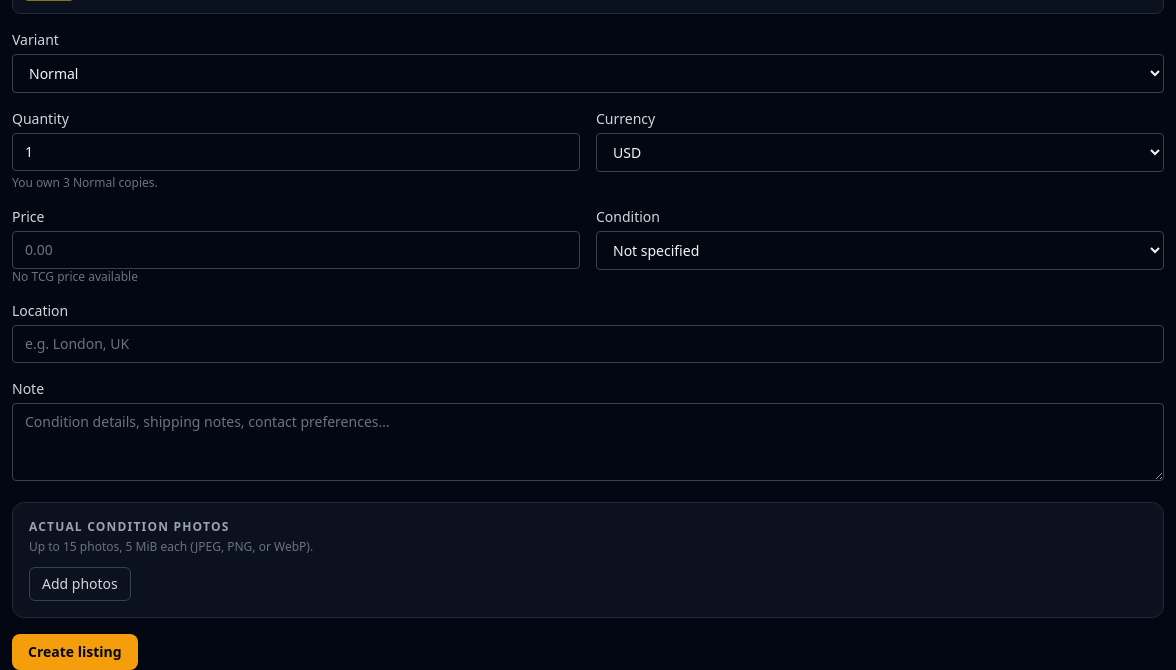
Test: ListingForm › requires a valid price before creating
(page scrolled)
Click the button "Create listing" at (75, 652), box [12, 634, 138, 669]
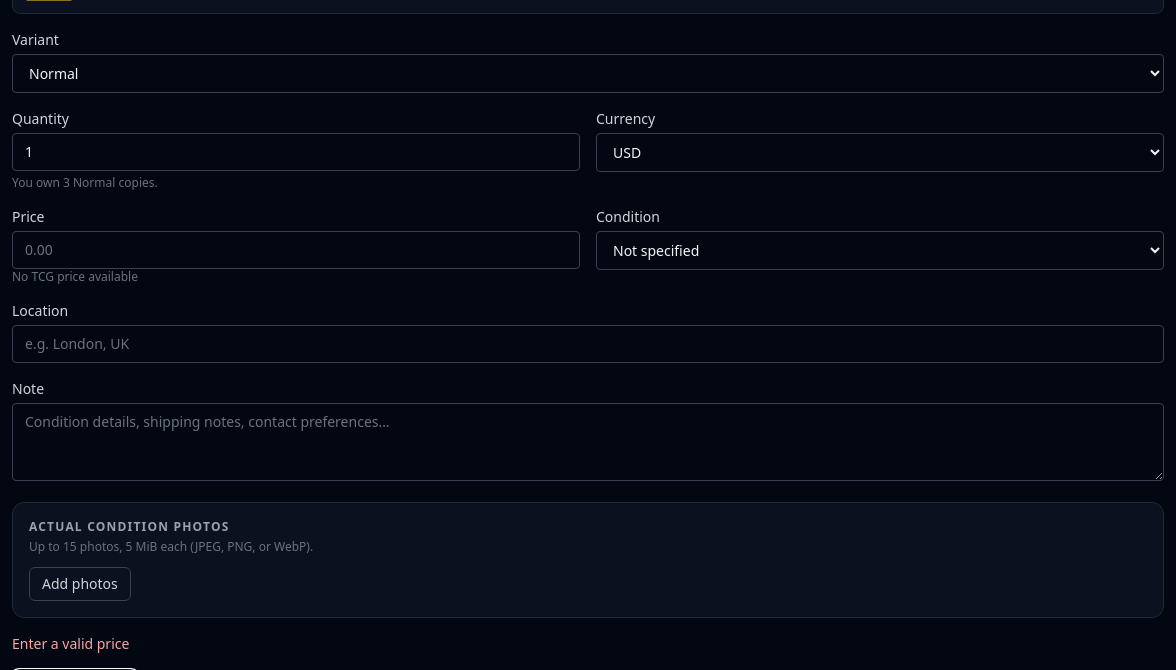
Check: the text "Enter a valid price" is shown, box [12, 634, 129, 653]
